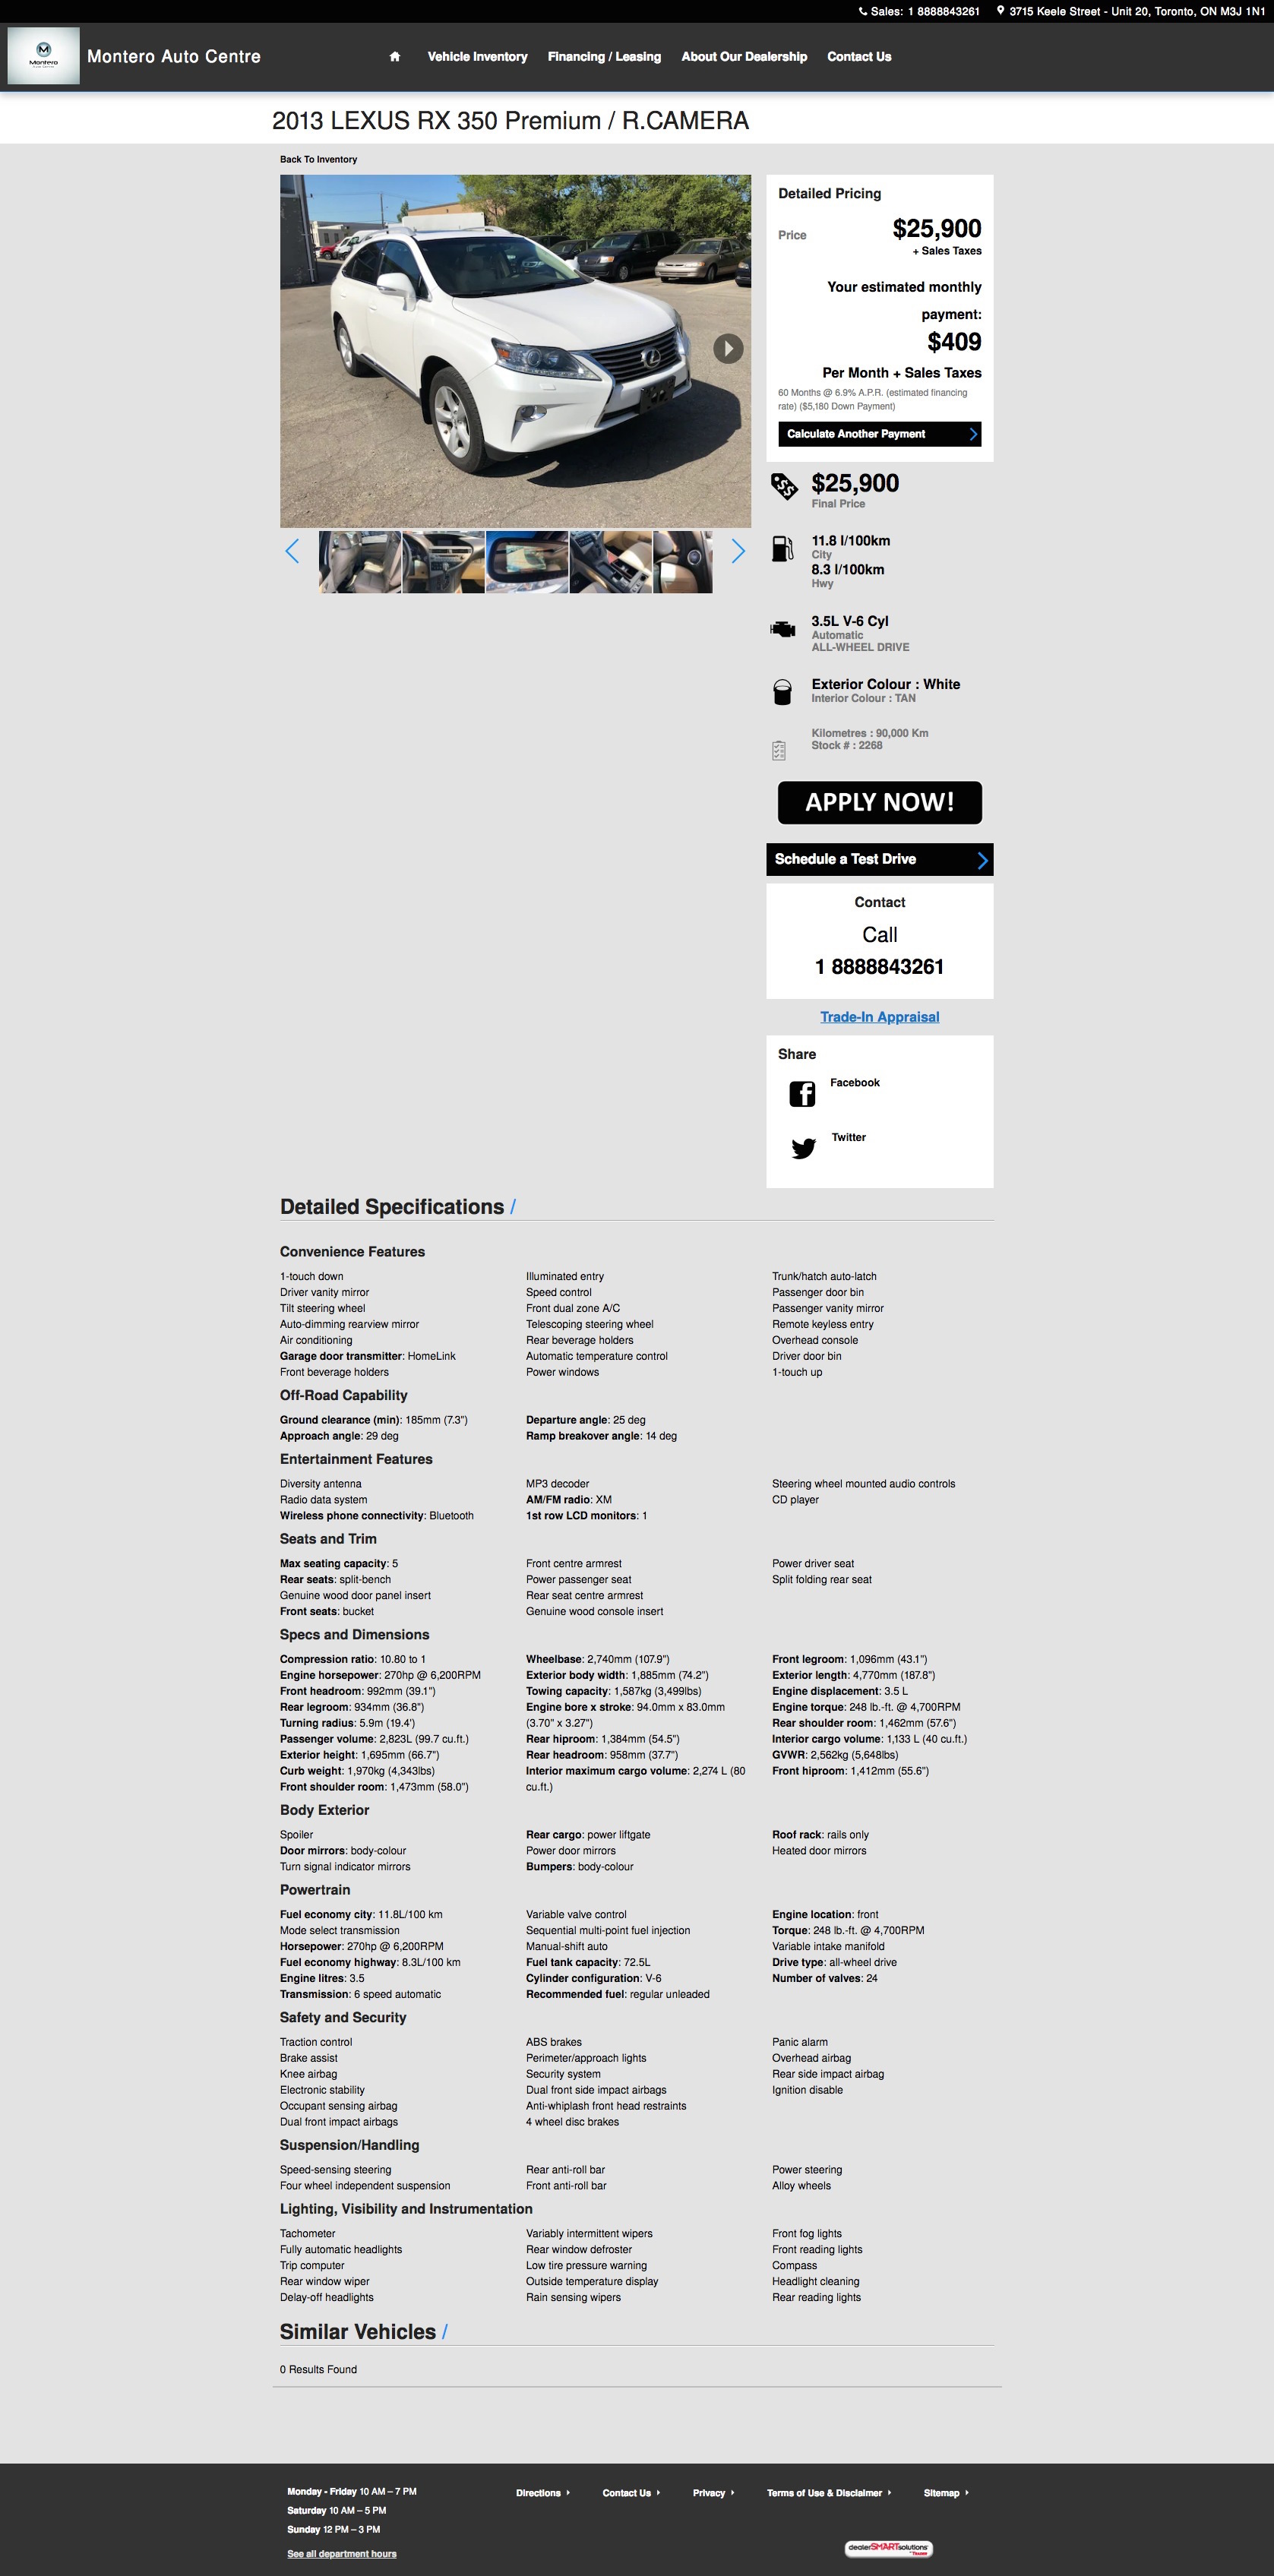car: (732, 537, 746, 565)
